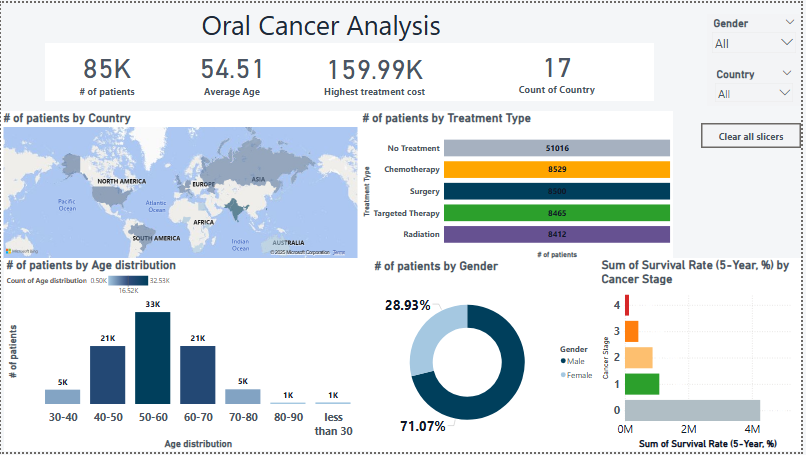

What the dashboard file says about the page in this screenshot:
{"tool":"powerbi","page":{"name":" dashboard","canvas":[1600,897],"ordinal":0},"visuals":[{"type":"textbox","box":[286.7,0,708.3,81.7],"z":0},{"type":"card","fields":{"Values":["kpi.# of patients"]},"box":[88,80,248.5,115.2],"z":0,"group":"g1"},{"type":"slicer","fields":{"Values":["oral_cancer_prediction_dataset.Country"]},"box":[1418,124,176,82],"z":0,"group":"g2"},{"type":"slicer","fields":{"Values":["oral_cancer_prediction_dataset.Gender"]},"box":[1412,22,188,92],"z":1000,"group":"g2"},{"type":"group","id":"g1","title":"Group 2","box":[88,80,1218,116],"z":1000},{"type":"card","fields":{"Values":["kpi.Average Age"]},"box":[348.7,80,228.3,115.2],"z":1000,"group":"g1"},{"type":"card","fields":{"Values":["kpi.Highest treatment cost"]},"box":[579.1,80,334,116],"z":2000,"group":"g1"},{"type":"filledMap","fields":{"Category":["oral_cancer_prediction_dataset.Country"]},"box":[0,216,718,300],"z":2000},{"type":"card","fields":{"Values":["Count(oral_cancer_prediction_dataset.Country)"]},"box":[918.7,80,387.3,108],"z":3000,"group":"g1"},{"type":"hundredPercentStackedBarChart","fields":{"Category":["oral_cancer_prediction_dataset.Treatment Type"],"Y":["kpi.# of patients"]},"box":[718,216,626,300],"z":3000},{"type":"donutChart","fields":{"Category":["oral_cancer_prediction_dataset.Gender"],"Y":["kpi.# of patients"]},"box":[742,512,456,386],"z":4000},{"type":"clusteredBarChart","fields":{"Category":["oral_cancer_prediction_dataset.Cancer Stage"],"Y":["Sum(oral_cancer_prediction_dataset.Survival Rate (5-Year, %))"]},"box":[1196,510,404,386],"z":5000},{"type":"group","id":"g2","title":"Group 1","box":[1412,22,188,184],"z":6000},{"type":"actionButton","box":[1400,240,200,50],"z":7000},{"type":"columnChart","fields":{"Category":["oral_cancer_prediction_dataset.Age distribution"],"Y":["kpi.# of patients"]},"box":[6,510,736,386],"z":8001}]}

Visuals, with their boxes in screenshot pixels (x1, y1, x2, y2), scaled from the page's 1600x897 canvas onto the 806x455 screenshot:
textbox: [x1=144, y1=0, x2=501, y2=41]
card - kpi.# of patients: [x1=44, y1=41, x2=170, y2=99]
slicer - oral_cancer_prediction_dataset.Country: [x1=714, y1=63, x2=803, y2=104]
slicer - oral_cancer_prediction_dataset.Gender: [x1=711, y1=11, x2=805, y2=58]
"Group 2" group: [x1=44, y1=41, x2=658, y2=99]
card - kpi.Average Age: [x1=176, y1=41, x2=291, y2=99]
card - kpi.Highest treatment cost: [x1=292, y1=41, x2=460, y2=99]
filledMap - oral_cancer_prediction_dataset.Country: [x1=0, y1=110, x2=362, y2=262]
card - Count(oral_cancer_prediction_dataset.Country): [x1=463, y1=41, x2=658, y2=95]
hundredPercentStackedBarChart - oral_cancer_prediction_dataset.Treatment Type x kpi.# of patients: [x1=362, y1=110, x2=677, y2=262]
donutChart - oral_cancer_prediction_dataset.Gender x kpi.# of patients: [x1=374, y1=260, x2=603, y2=454]
clusteredBarChart - oral_cancer_prediction_dataset.Cancer Stage x Sum(oral_cancer_prediction_dataset.Survival Rate (5-Year, %)): [x1=602, y1=259, x2=805, y2=454]
"Group 1" group: [x1=711, y1=11, x2=805, y2=104]
actionButton: [x1=705, y1=122, x2=805, y2=147]
columnChart - oral_cancer_prediction_dataset.Age distribution x kpi.# of patients: [x1=3, y1=259, x2=374, y2=454]
